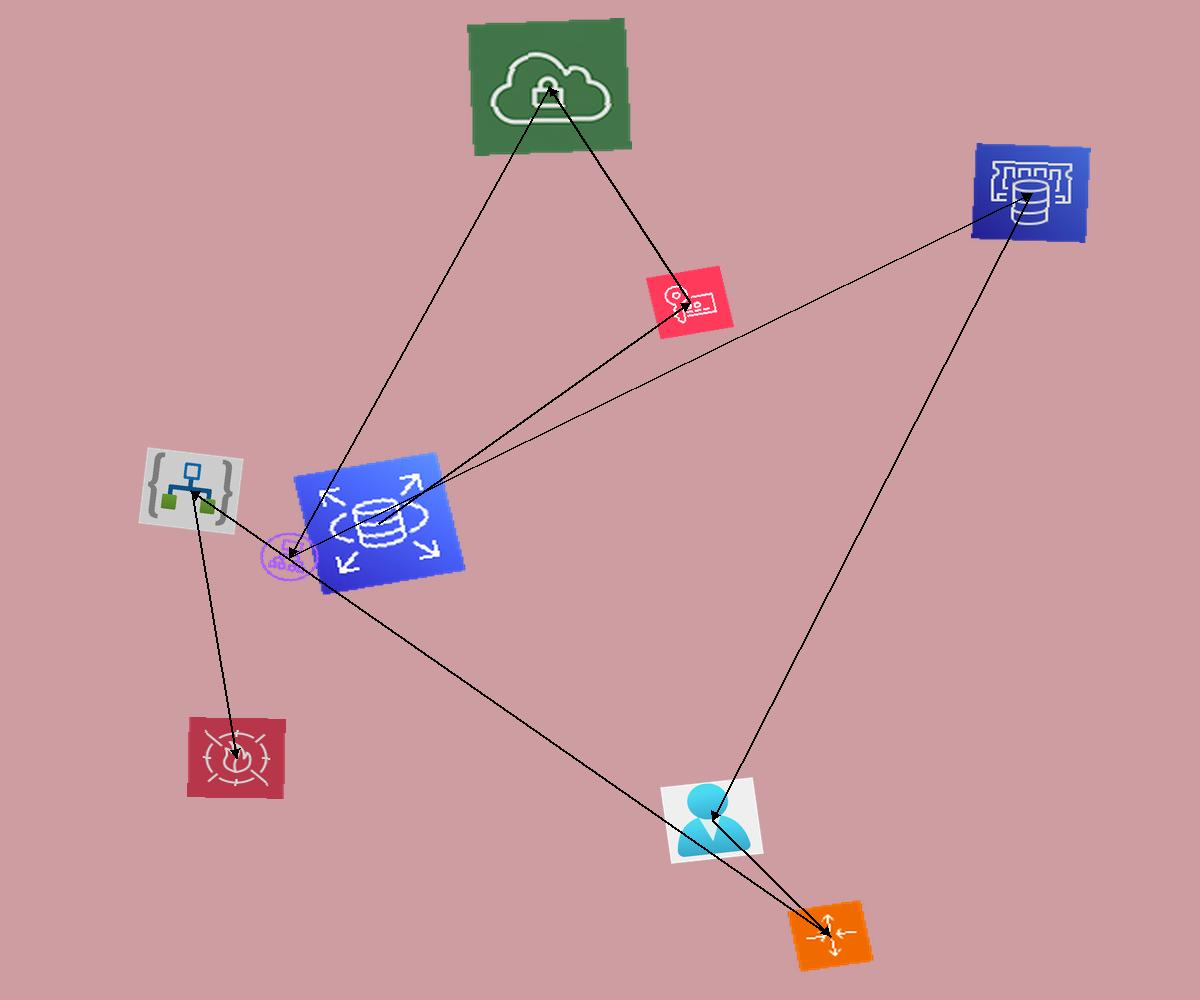AWS-ElastiCache: (971, 143, 1091, 243)
AWS-Key-Management-Service: (645, 265, 735, 340)
AWS-Private_vpc: (467, 18, 632, 156)
AWS-RDS: (292, 451, 467, 596)
AWS-Res_Elastic-Load-Balancing_Application-Load-Balancer: (251, 525, 328, 589)
AWS-Scaling-group: (786, 899, 875, 973)
AWS-WAF: (187, 717, 286, 799)
Azure_integration-204-Logic-Apps: (138, 447, 244, 535)
Azure_users: (660, 777, 764, 864)
